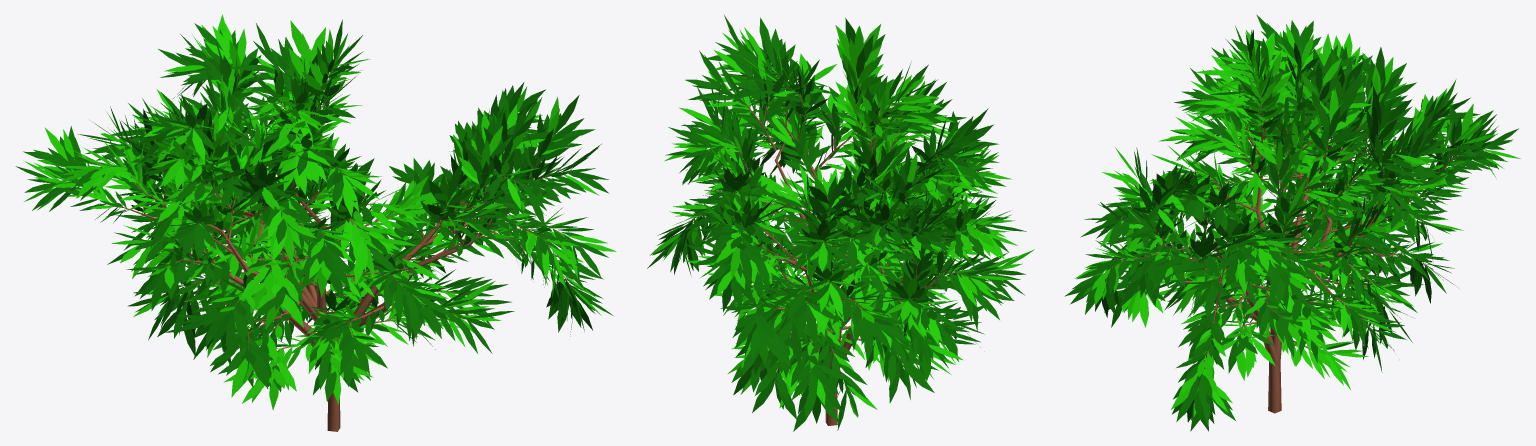
Rendered from Trees.gltf.
The picture shows the model from 3 angles, left to right: view 1: azimuth 30°, elevation 25°; view 2: azimuth 150°, elevation 25°; view 3: azimuth 270°, elevation 25°; orthographic projection. The views are drawn at different scales.
Parts seen in each view (by area): view 1: tree, tree.001, tree.002; view 2: tree, tree.002, tree.001; view 3: tree, tree.002, tree.001.
Boxes of the visible parts, x1,y1,x2,y2 form: tree: (15, 82, 616, 431); tree.001: (54, 19, 459, 431); tree.002: (111, 14, 408, 391); tree: (647, 15, 1034, 425); tree.002: (689, 108, 999, 431); tree.001: (705, 18, 1026, 425); tree: (1064, 46, 1479, 431); tree.002: (1187, 14, 1520, 372); tree.001: (1150, 25, 1387, 413).
Size of the model in its own units: 11.01 by 9.58 by 10.47.
